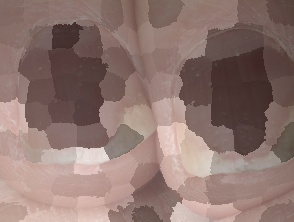Nail_psoriasis: (161, 34, 294, 190), (10, 25, 149, 165)
